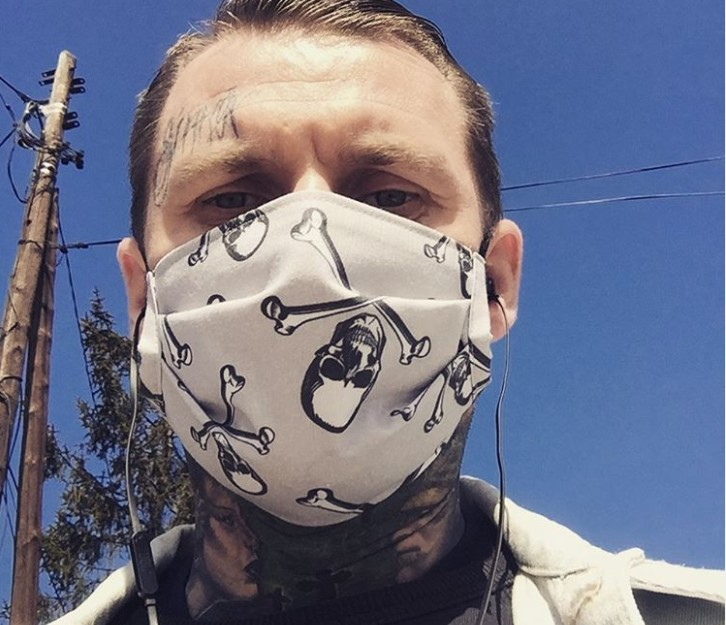face_with_mask: (116, 5, 526, 539)
